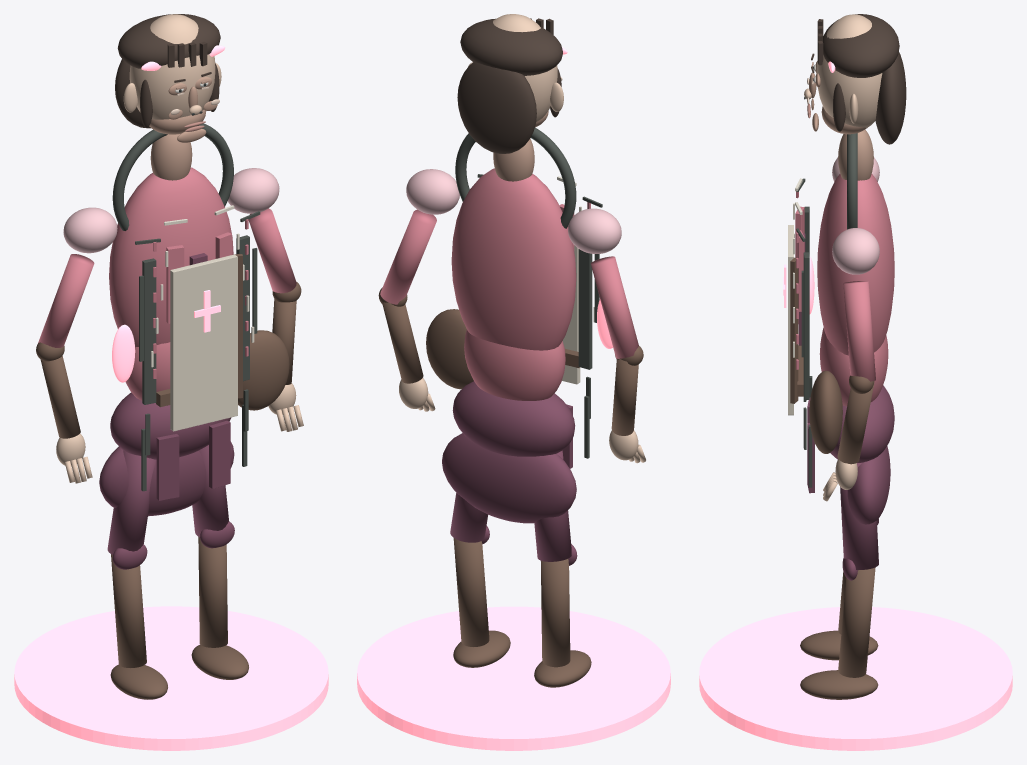
The model's file is crimson-mender.glb.
The picture shows the model from 3 angles, left to right: view 1: azimuth 30°, elevation 25°; view 2: azimuth 150°, elevation 25°; view 3: azimuth 270°, elevation 25°; orthographic projection.
Parts seen in each view (by area): view 1: crimson-mender_table_scale_base, crimson-mender_doctor_coat_panel, crimson-mender_ribcage, crimson-mender_head, crimson-mender_pelvis, crimson-mender_coat_tail, crimson-mender_right_shin, crimson-mender_left_shin, crimson-mender_left_thigh, crimson-mender_medic_satchel, crimson-mender_hair_cap, crimson-mender_left_upper_arm (+23 smaller); view 2: crimson-mender_table_scale_base, crimson-mender_ribcage, crimson-mender_coat_tail, crimson-mender_pelvis, crimson-mender_back_hair_mass, crimson-mender_abdomen, crimson-mender_hair_cap, crimson-mender_left_shin, crimson-mender_right_shin, crimson-mender_medic_satchel, crimson-mender_left_upper_arm, crimson-mender_right_upper_arm (+15 smaller); view 3: crimson-mender_table_scale_base, crimson-mender_ribcage, crimson-mender_head, crimson-mender_hair_cap, crimson-mender_right_shin, crimson-mender_right_upper_arm, crimson-mender_coat_tail, crimson-mender_medic_satchel, crimson-mender_back_hair_mass, crimson-mender_right_thigh, crimson-mender_pelvis, crimson-mender_abdomen (+10 smaller).
Boxes of the visible parts, box(x1,y1,x2,y2) form: crimson-mender_table_scale_base: box(14, 606, 328, 750); crimson-mender_doctor_coat_panel: box(170, 254, 237, 431); crimson-mender_ribcage: box(109, 167, 233, 347); crimson-mender_head: box(129, 14, 215, 119); crimson-mender_pelvis: box(110, 392, 231, 459); crimson-mender_coat_tail: box(99, 441, 234, 516); crimson-mender_right_shin: box(198, 537, 227, 647); crimson-mender_left_shin: box(111, 554, 146, 667); crimson-mender_left_thigh: box(107, 450, 155, 554); crimson-mender_medic_satchel: box(238, 330, 289, 410); crimson-mender_hair_cap: box(117, 14, 220, 68); crimson-mender_left_upper_arm: box(38, 254, 94, 347); crimson-mender_table_scale_base: box(357, 606, 670, 750); crimson-mender_ribcage: box(451, 168, 576, 350); crimson-mender_coat_tail: box(442, 433, 576, 523); crimson-mender_pelvis: box(452, 381, 575, 456); crimson-mender_back_hair_mass: box(457, 62, 536, 153); crimson-mender_abdomen: box(464, 330, 565, 400); crimson-mender_hair_cap: box(460, 18, 562, 75); crimson-mender_left_shin: box(541, 559, 570, 667); crimson-mender_right_shin: box(453, 538, 489, 646); crimson-mender_medic_satchel: box(426, 309, 473, 389); crimson-mender_left_upper_arm: box(590, 256, 638, 358); crimson-mender_right_upper_arm: box(380, 209, 436, 304); crimson-mender_table_scale_base: box(699, 607, 1012, 750); crimson-mender_ribcage: box(817, 174, 894, 355); crimson-mender_head: box(816, 14, 882, 127); crimson-mender_hair_cap: box(823, 14, 899, 77); crimson-mender_right_shin: box(838, 567, 875, 677); crimson-mender_right_upper_arm: box(843, 281, 875, 381); crimson-mender_coat_tail: box(847, 446, 890, 524); crimson-mender_medic_satchel: box(809, 370, 842, 453); crimson-mender_back_hair_mass: box(875, 51, 906, 144); crimson-mender_right_thigh: box(840, 462, 878, 569); crimson-mender_pelvis: box(830, 385, 894, 462); crimson-mender_abdomen: box(819, 328, 888, 406).
Bounding box in the file's own units: 0.84 × 1.97 × 0.84.
